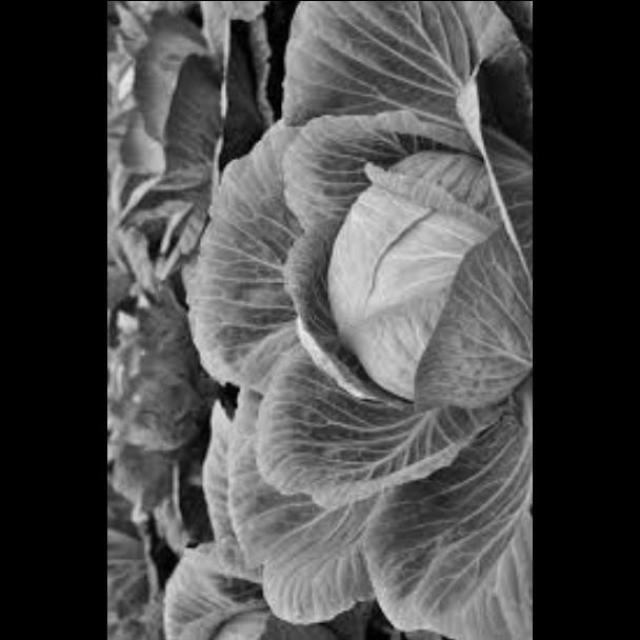cabbage: (246, 68, 531, 574), (106, 282, 273, 544), (106, 0, 252, 295), (142, 516, 326, 640)
